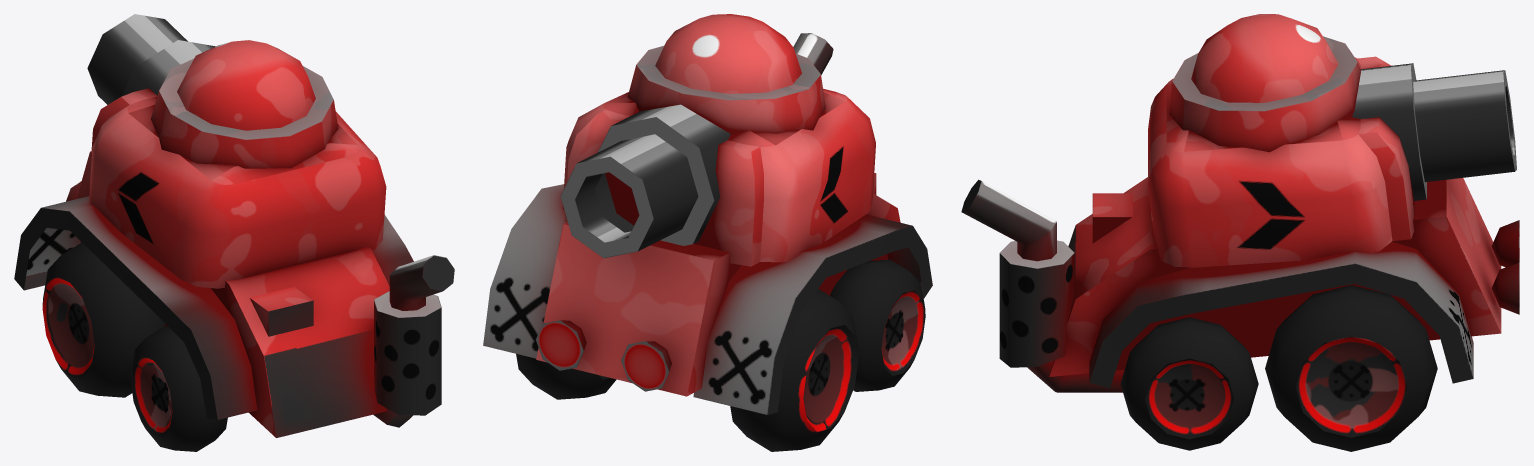
The model's file is pawn1.glb.
3 views of the same model, side by side, from view 1: azimuth 30°, elevation 25°; view 2: azimuth 150°, elevation 25°; view 3: azimuth 270°, elevation 25° (orthographic). The views are drawn at different scales.
Parts seen in each view (by area): view 1: Tank_verh, Tank_osnova, Koleso_left_front, Koleso_left_back; view 2: Tank_verh, Tank_osnova, Koleso_left_front, Koleso_left_back, Koleso_right_front; view 3: Tank_verh, Tank_osnova, Koleso_right_front, Koleso_right_back.
Part boxes in pixels (x1,y1,x2,y2): Tank_verh: [87, 14, 386, 288]; Tank_osnova: [14, 151, 454, 437]; Koleso_left_front: [42, 242, 165, 397]; Koleso_left_back: [130, 326, 227, 451]; Tank_verh: [560, 14, 875, 266]; Tank_osnova: [483, 33, 932, 414]; Koleso_left_front: [730, 289, 858, 451]; Koleso_left_back: [830, 259, 925, 391]; Koleso_right_front: [516, 354, 616, 399]; Tank_verh: [1148, 14, 1516, 267]; Tank_osnova: [961, 177, 1519, 392]; Koleso_right_front: [1265, 285, 1437, 451]; Koleso_right_back: [1120, 317, 1258, 450].
Size of the model in its own units: 1.42 by 1.72 by 2.35.
1 material, 1 textured.
